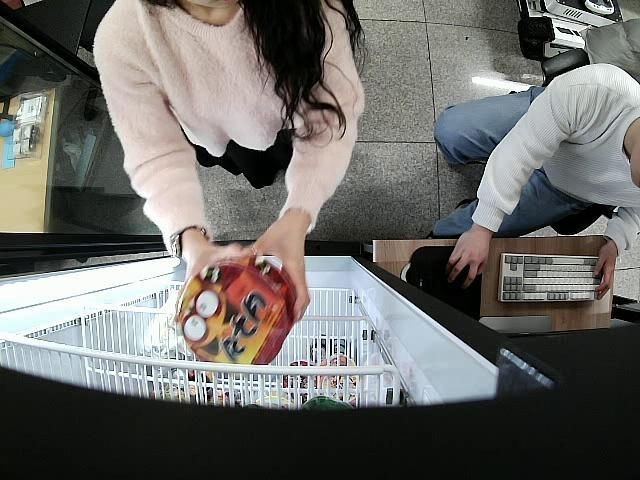05_nuguri_L: (180, 264, 290, 367)
